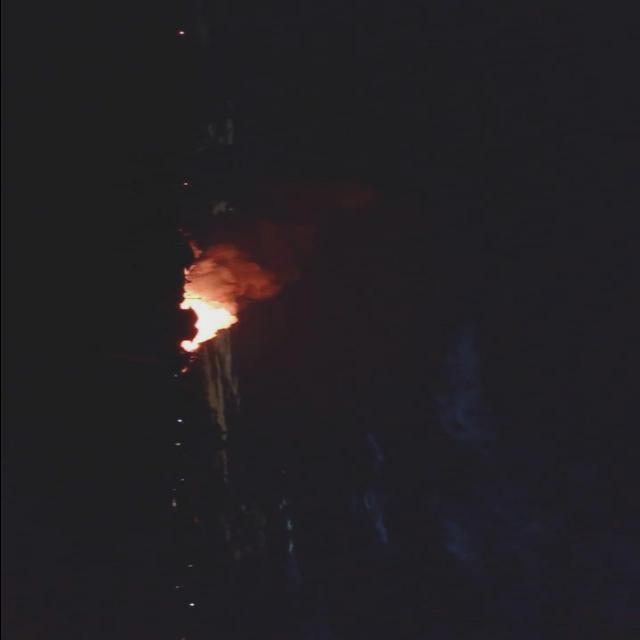Fire: (175, 296, 238, 352)
